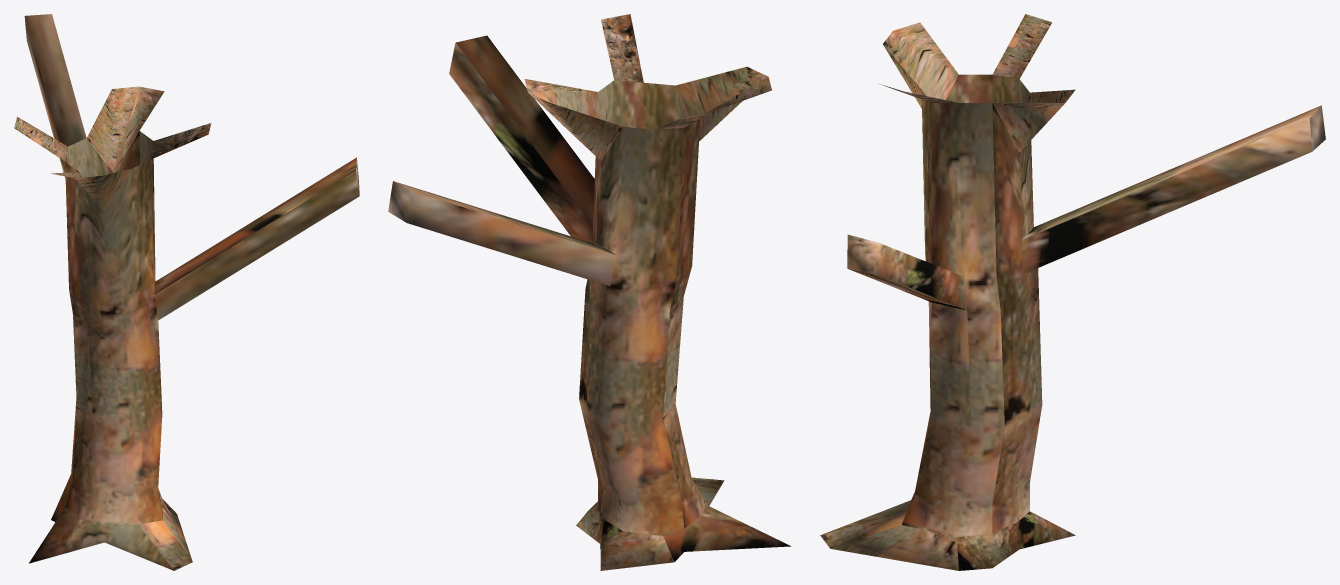
Rendered from Tree1.fbx.
3 renders of one model, left to right at view 1: azimuth 30°, elevation 25°; view 2: azimuth 150°, elevation 25°; view 3: azimuth 270°, elevation 25°, orthographic. The views are drawn at different scales.
Visible parts, largest first — view 1: Cylinder; view 2: Cylinder; view 3: Cylinder.
Boxes of the visible parts, bbox=[...] form: Cylinder: bbox=[14, 14, 359, 570]; Cylinder: bbox=[388, 14, 790, 570]; Cylinder: bbox=[820, 14, 1325, 570].
Bounding box in the file's own units: 1600 × 1980 × 1866.
Materials: 1 (1 with a texture image).
